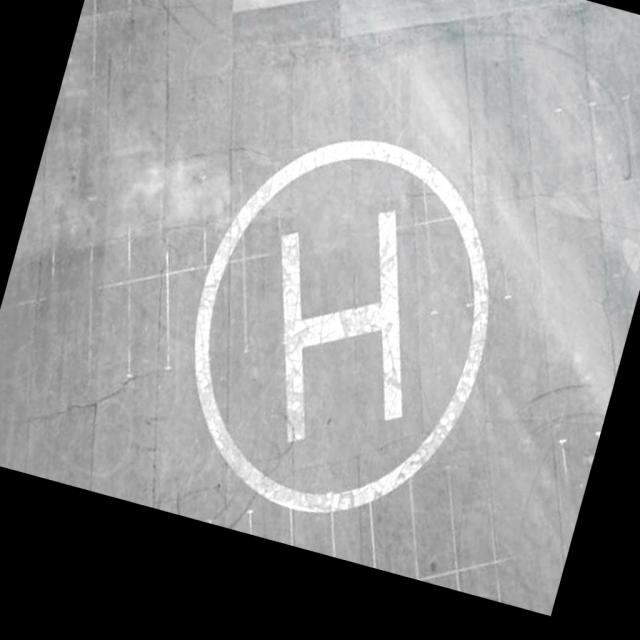helipad: (190, 135, 494, 519)
